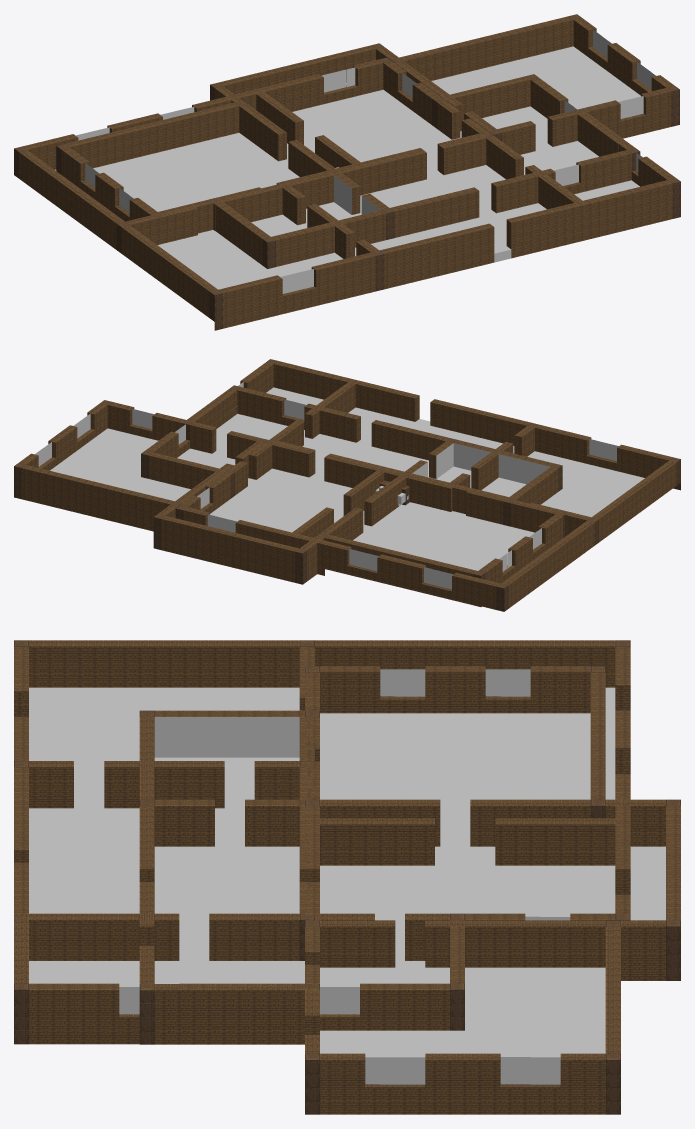
File: House_2.fbx
3 renders of one model, top to bottom at view 1: azimuth 30°, elevation 25°; view 2: azimuth 150°, elevation 25°; view 3: azimuth 270°, elevation 25°, orthographic. The views are drawn at different scales.
Parts seen in each view (by area): view 1: House_2, House_1; view 2: House_1, House_2; view 3: House_1, House_2, House_1.001.
Boxes of the visible parts, x1,y1,x2,y2 form: House_2: [14, 57, 680, 330]; House_1: [56, 14, 679, 268]; House_1: [14, 385, 566, 606]; House_2: [141, 359, 680, 611]; House_1: [139, 666, 680, 1114]; House_2: [14, 640, 630, 1044]; House_1.001: [380, 670, 605, 1087].
Size of the model in its own units: 13209 by 1005 by 8871.
